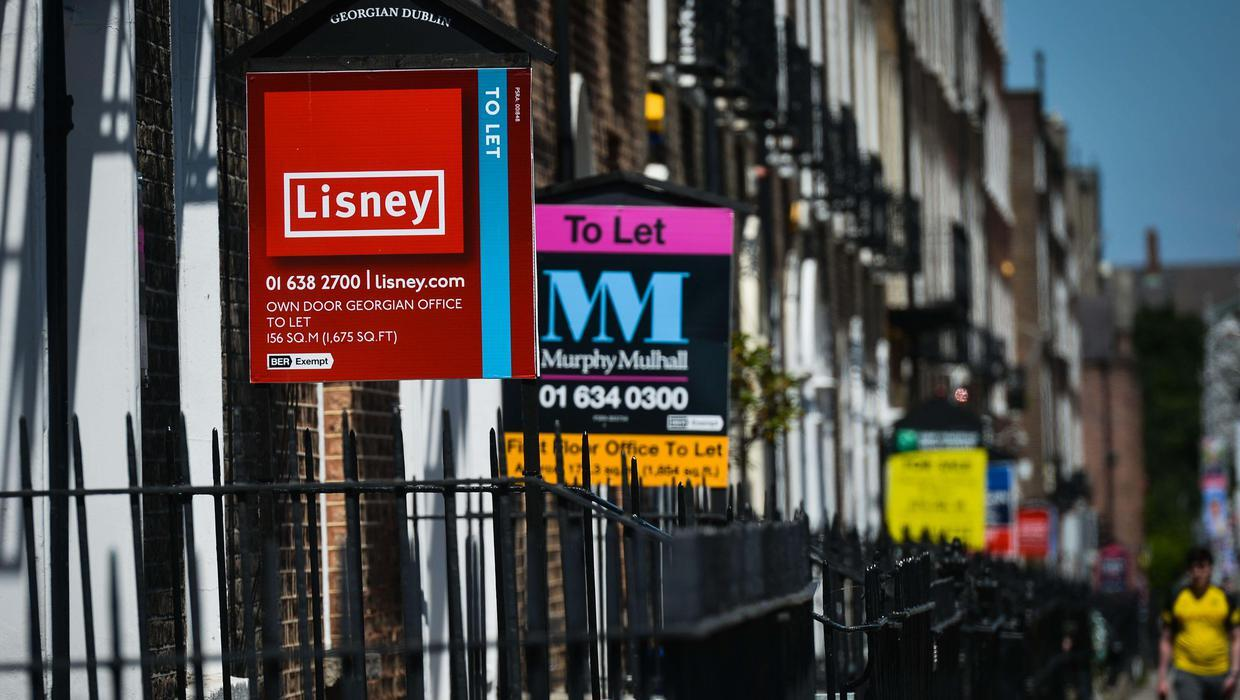property sign: (233, 49, 545, 394), (504, 180, 744, 497), (876, 411, 988, 560)
